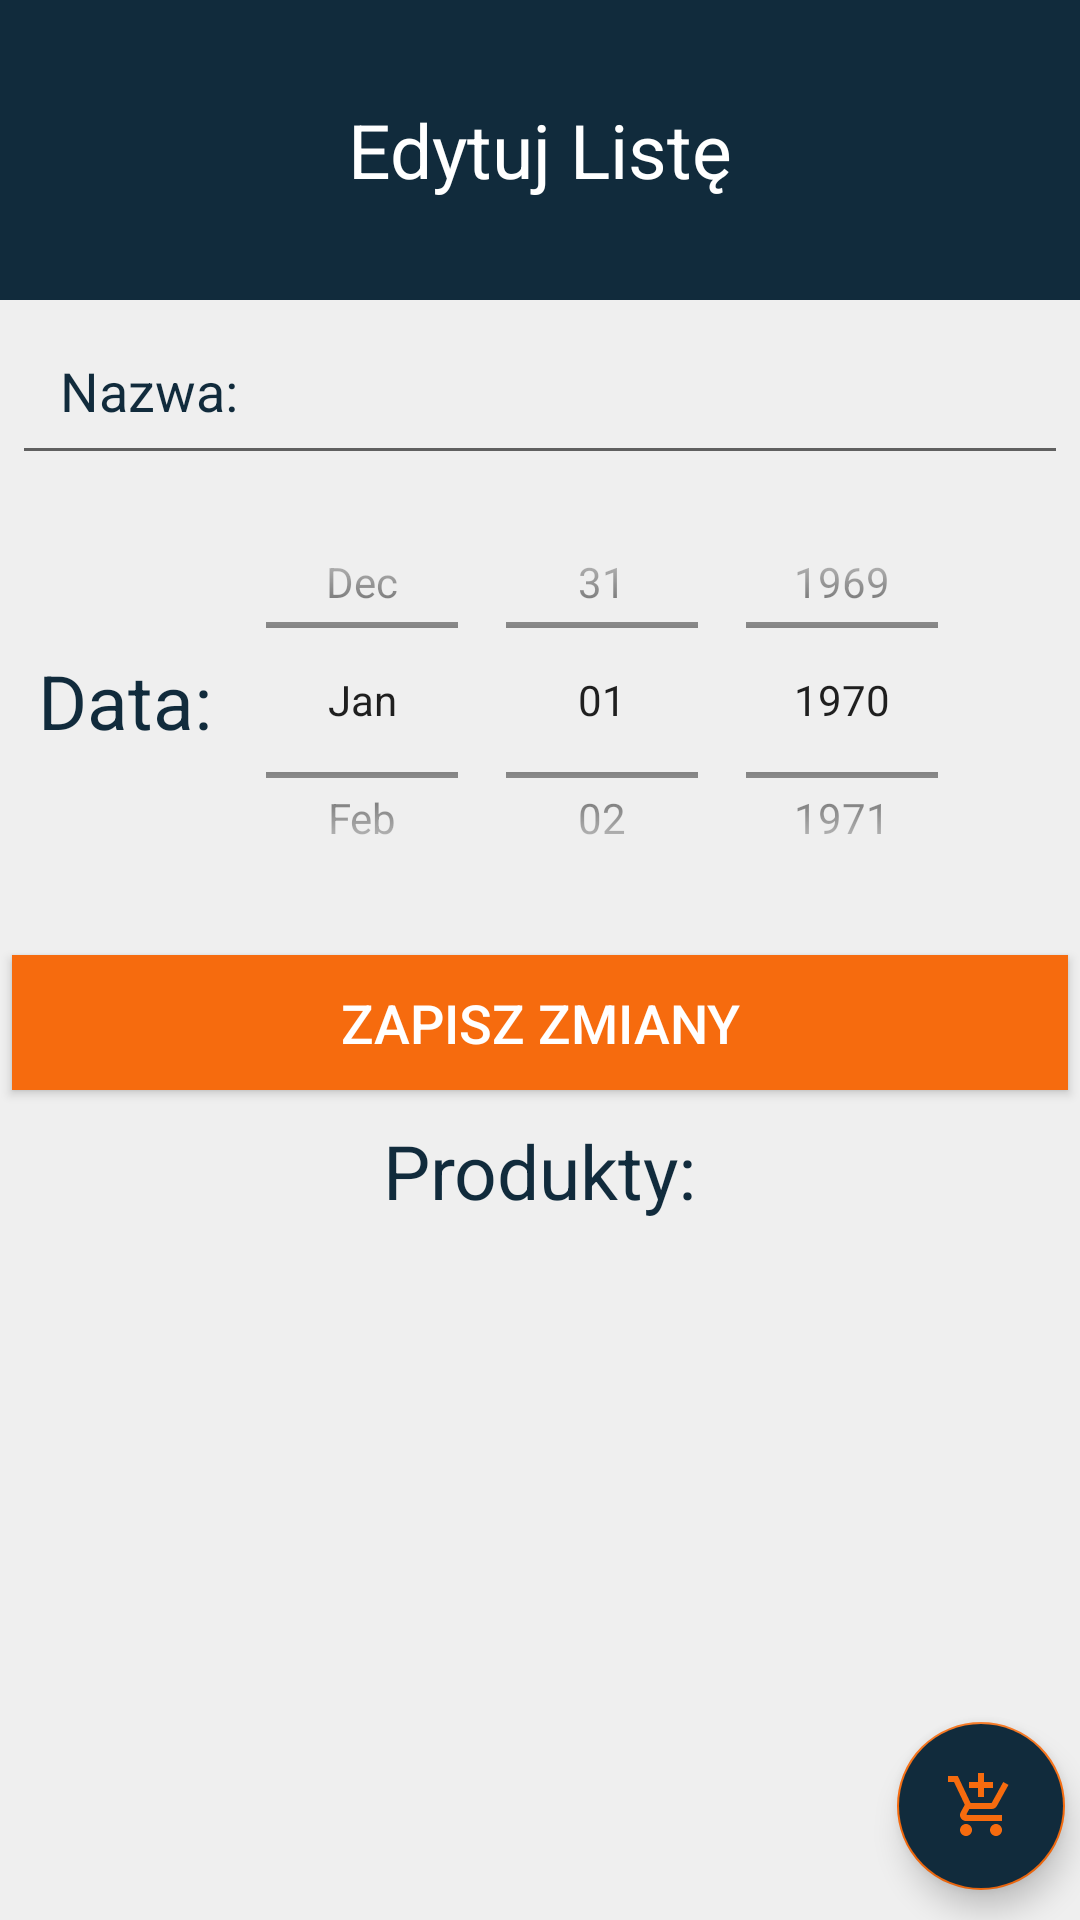

Named icons in this screenshot (1080 x 1920) and their bounding boxes, bbox=(x1, y1, x2, y2):
add shopping cart: bbox=(897, 1722, 1065, 1890)
